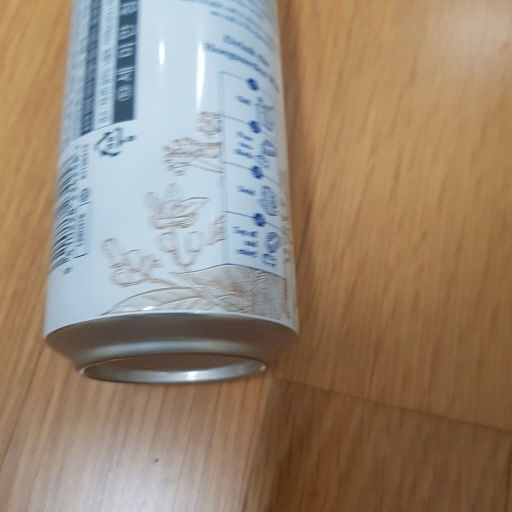Metal_0: (37, 2, 301, 390)
